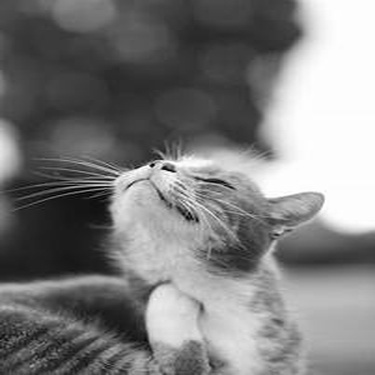cat: (10, 156, 323, 373)
